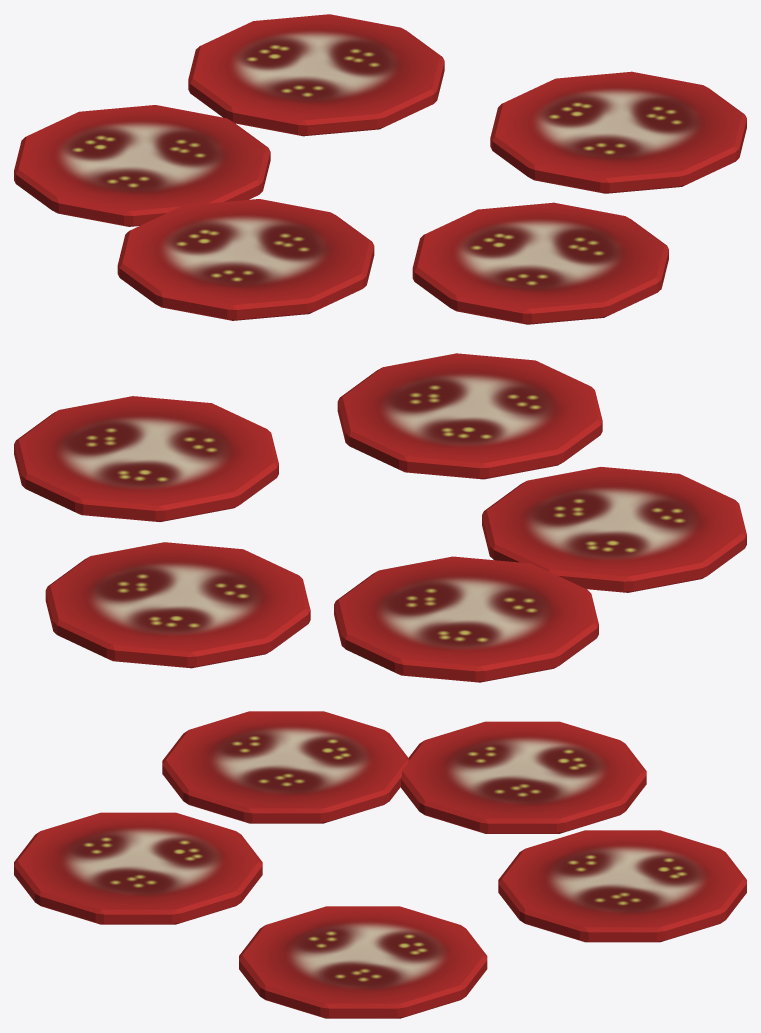
File: TomatoCut.fbx
3 renders of one model, top to bottom at view 1: azimuth 30°, elevation 25°; view 2: azimuth 150°, elevation 25°; view 3: azimuth 270°, elevation 25°, orthographic. The views are drawn at different scales.
Visible parts, largest first — view 1: Tomato; view 2: Tomato; view 3: Tomato.
Boxes of the visible parts, x1=… form: Tomato: x1=14, y1=14, x2=746, y2=324; Tomato: x1=14, y1=353, x2=746, y2=682; Tomato: x1=14, y1=711, x2=746, y2=1018.
Bounding box in the file's own units: 18.97 × 0.5767 × 20.02.
